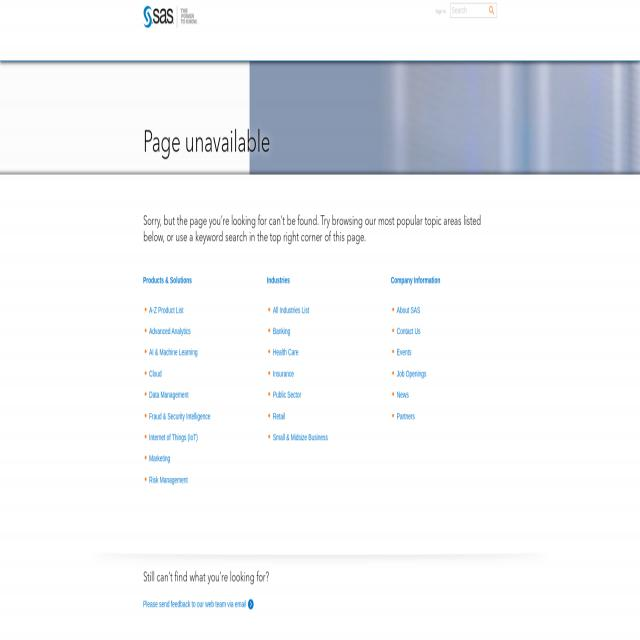button: (143, 6, 197, 30), (487, 4, 497, 16), (436, 6, 446, 16)
field: (451, 5, 488, 16)
